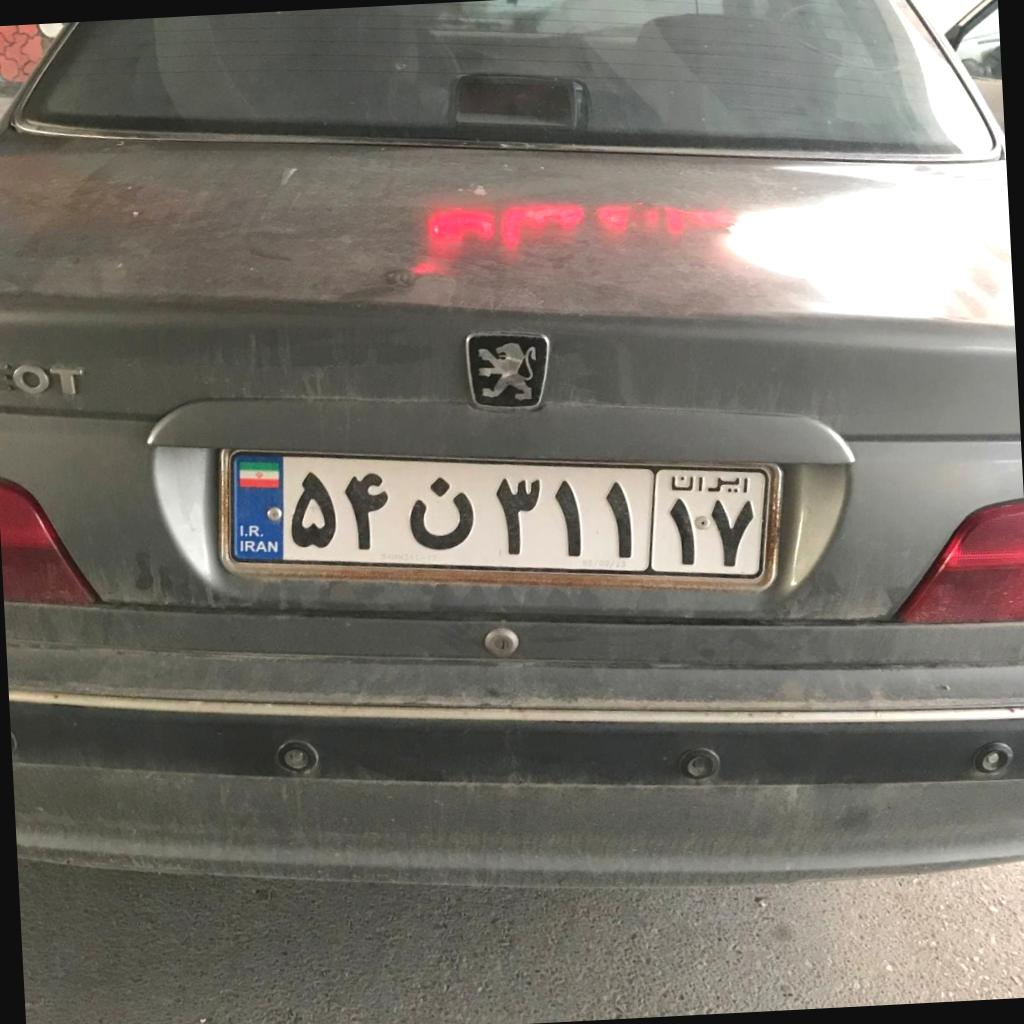Plates: (228, 450, 769, 577)
